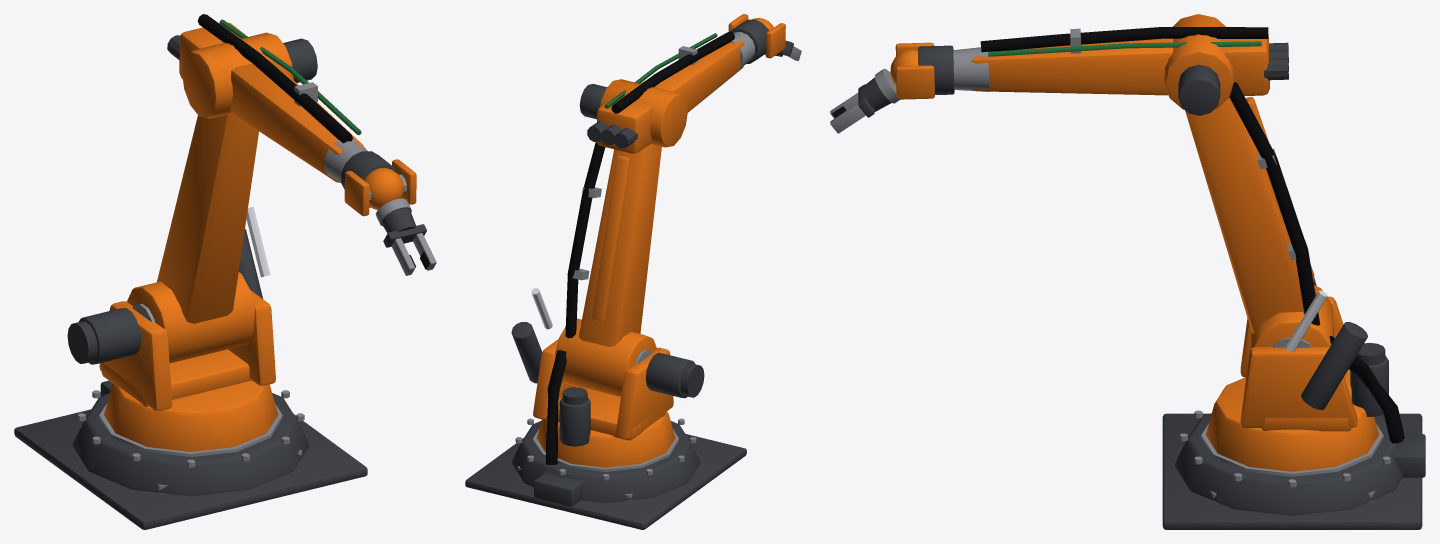
File: robot_arm_mini.glb
The picture shows the model from 3 angles, left to right: view 1: azimuth 30°, elevation 25°; view 2: azimuth 150°, elevation 25°; view 3: azimuth 270°, elevation 25°; orthographic projection. The views are drawn at different scales.
Visible parts, largest first — view 1: miniBaseBody, miniTurretBody, miniUpperBody, miniForeBody, miniToolBody, miniRollBody, miniWristBody; view 2: miniUpperBody, miniTurretBody, miniBaseBody, miniForeBody, miniRollBody; view 3: miniBaseBody, miniTurretBody, miniForeBody, miniUpperBody, miniRollBody, miniToolBody.
Part boxes in pixels (x1,y1,x2,y2): miniBaseBody: [14, 380, 367, 529]; miniTurretBody: [67, 206, 277, 451]; miniUpperBody: [127, 35, 280, 363]; miniForeBody: [167, 14, 367, 182]; miniToolBody: [375, 198, 436, 275]; miniRollBody: [341, 151, 416, 216]; miniWristBody: [364, 167, 406, 209]; miniUpperBody: [555, 80, 670, 397]; miniTurretBody: [511, 288, 704, 467]; miniBaseBody: [465, 418, 746, 529]; miniForeBody: [579, 31, 754, 153]; miniRollBody: [728, 14, 785, 63]; miniBaseBody: [1162, 410, 1425, 529]; miniTurretBody: [1206, 278, 1404, 471]; miniForeBody: [953, 14, 1288, 115]; miniUpperBody: [1165, 19, 1333, 348]; miniRollBody: [895, 42, 954, 99]; miniToolBody: [830, 68, 899, 133].
Size of the model in its own units: 0.3108 by 0.5942 by 0.7134.
Materials: 8 (1 with a texture image).
